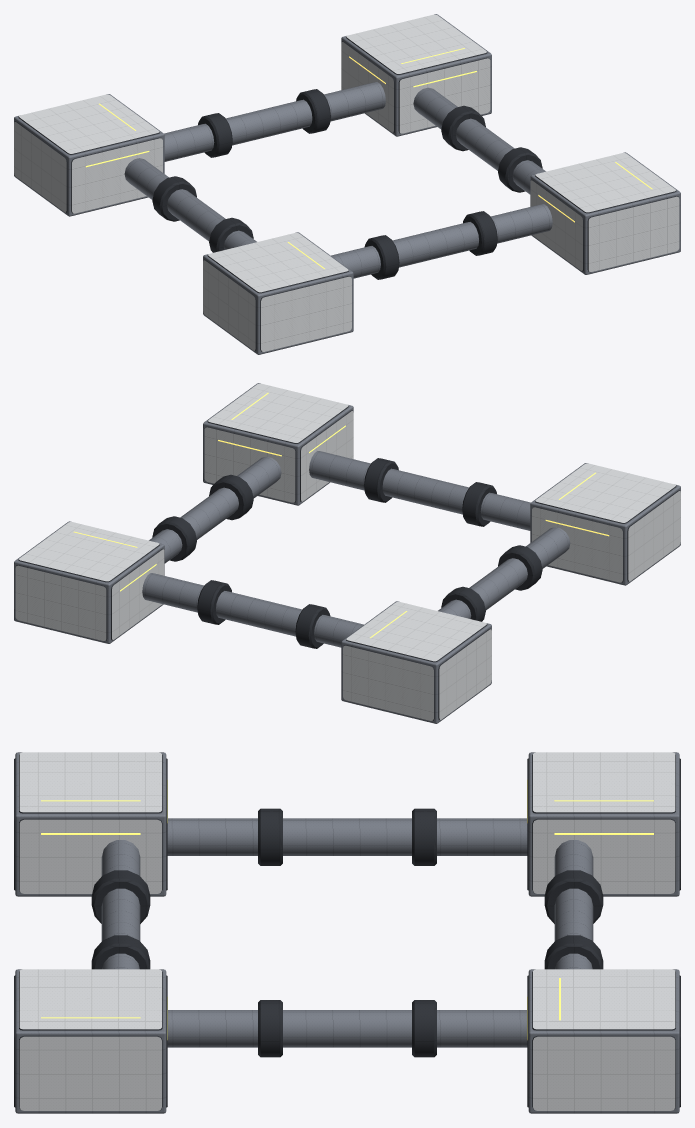
File: R4C_ROD_FRAME.glb
3 views of the same model, one above another, from view 1: azimuth 30°, elevation 25°; view 2: azimuth 150°, elevation 25°; view 3: azimuth 270°, elevation 25° (orthographic). The views are drawn at different scales.
Visible parts, largest first — view 1: R4C_ROD_FRAME; view 2: R4C_ROD_FRAME; view 3: R4C_ROD_FRAME.
Boxes of the visible parts, x1=… form: R4C_ROD_FRAME: x1=14, y1=14, x2=680, y2=354; R4C_ROD_FRAME: x1=14, y1=383, x2=680, y2=723; R4C_ROD_FRAME: x1=14, y1=752, x2=680, y2=1113.
Size of the model in its own units: 1.62 by 0.2284 by 1.62.
4 materials, 3 textured.
